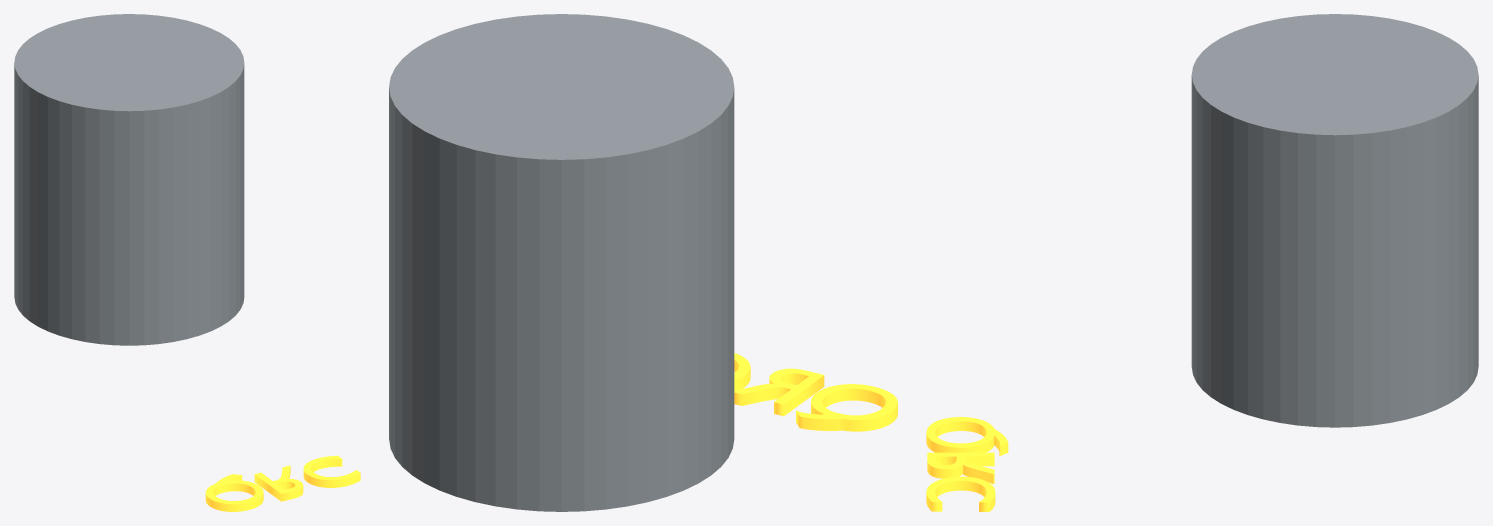
File: QRC.glb
3 views of the same model, side by side, from view 1: azimuth 30°, elevation 25°; view 2: azimuth 150°, elevation 25°; view 3: azimuth 270°, elevation 25° (orthographic). The views are drawn at different scales.
Parts seen in each view (by area): view 1: QRC, LABEL_QRC; view 2: QRC, LABEL_QRC; view 3: QRC, LABEL_QRC.
Part boxes in pixels (box(x1,y1,x2,y2)): QRC: box(14, 14, 244, 345); LABEL_QRC: box(205, 455, 360, 511); QRC: box(389, 14, 734, 511); LABEL_QRC: box(734, 353, 897, 431); QRC: box(1191, 14, 1478, 427); LABEL_QRC: box(926, 417, 1008, 511).
Bounding box in the file's own units: 0.16 × 0.243 × 0.308.
